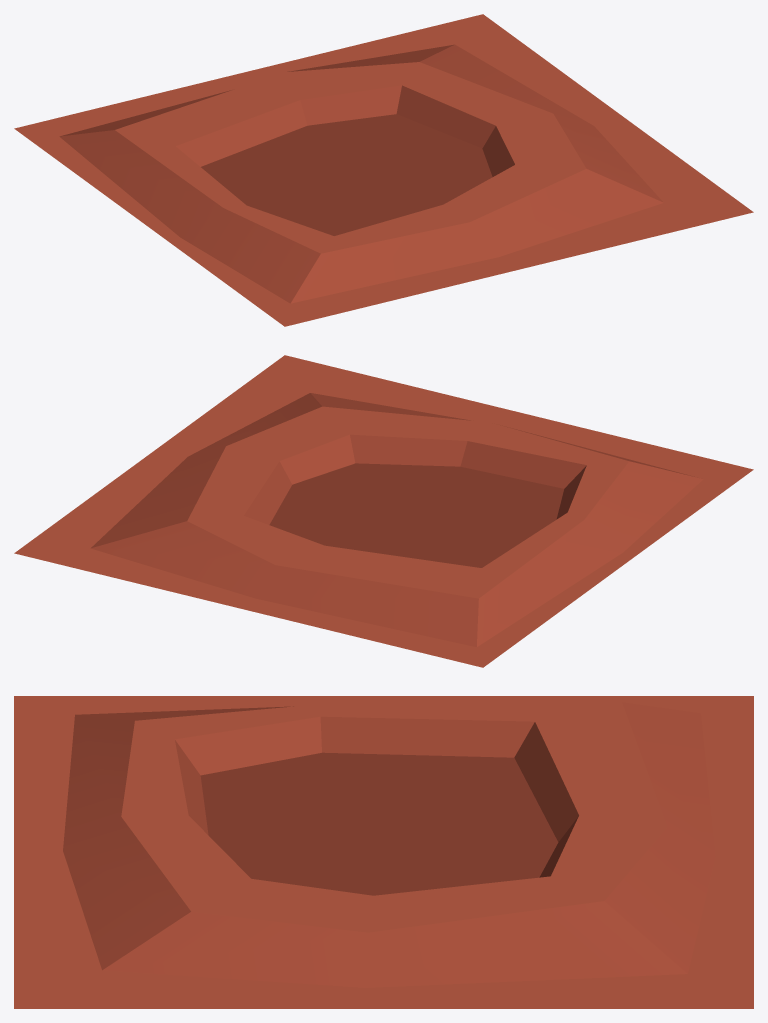
File: SM_Env_Crater_06.fbx
3 renders of one model, top to bottom at view 1: azimuth 30°, elevation 25°; view 2: azimuth 150°, elevation 25°; view 3: azimuth 270°, elevation 25°, orthographic. The views are drawn at different scales.
Visible parts, largest first — view 1: SM_Env_Crater_06; view 2: SM_Env_Crater_06; view 3: SM_Env_Crater_06.
Part boxes in pixels (x1,y1,x2,y2): SM_Env_Crater_06: (14, 14, 753, 326); SM_Env_Crater_06: (14, 355, 753, 667); SM_Env_Crater_06: (14, 696, 753, 1008).
Bounding box in the file's own units: 20 × 0.8606 × 20.
